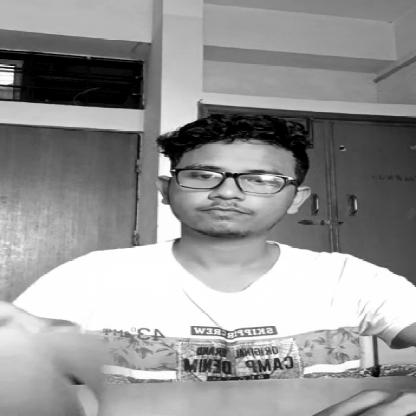Normal: (158, 118, 318, 239)
